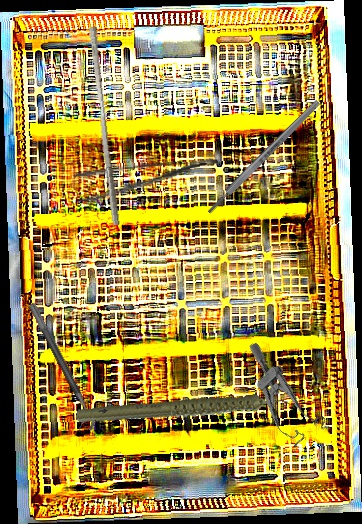Dressing Forceps: (73, 155, 223, 205)
Fixation Ring: (17, 301, 100, 437)
Handpiece: (75, 362, 297, 461)
Pusher: (81, 26, 128, 226)
Scalpel Handle: (205, 98, 322, 216)
Speculum: (220, 340, 338, 456)
